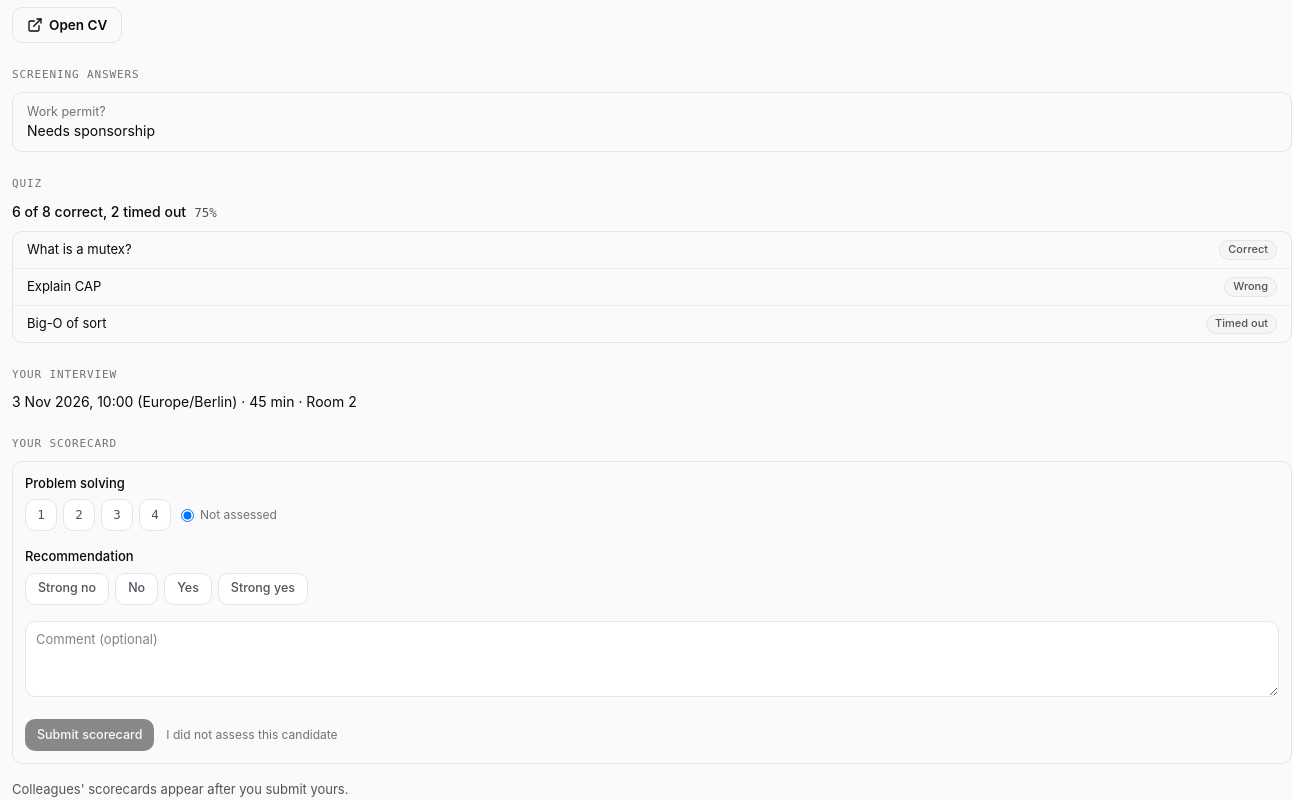
Scenario: ReviewDetailPage › declines and shows the declined state, keeping the view
(page scrolled)
Click the button "I did not assess this candidate" at (252, 735), box [166,726,338,744]
(page scrolled)
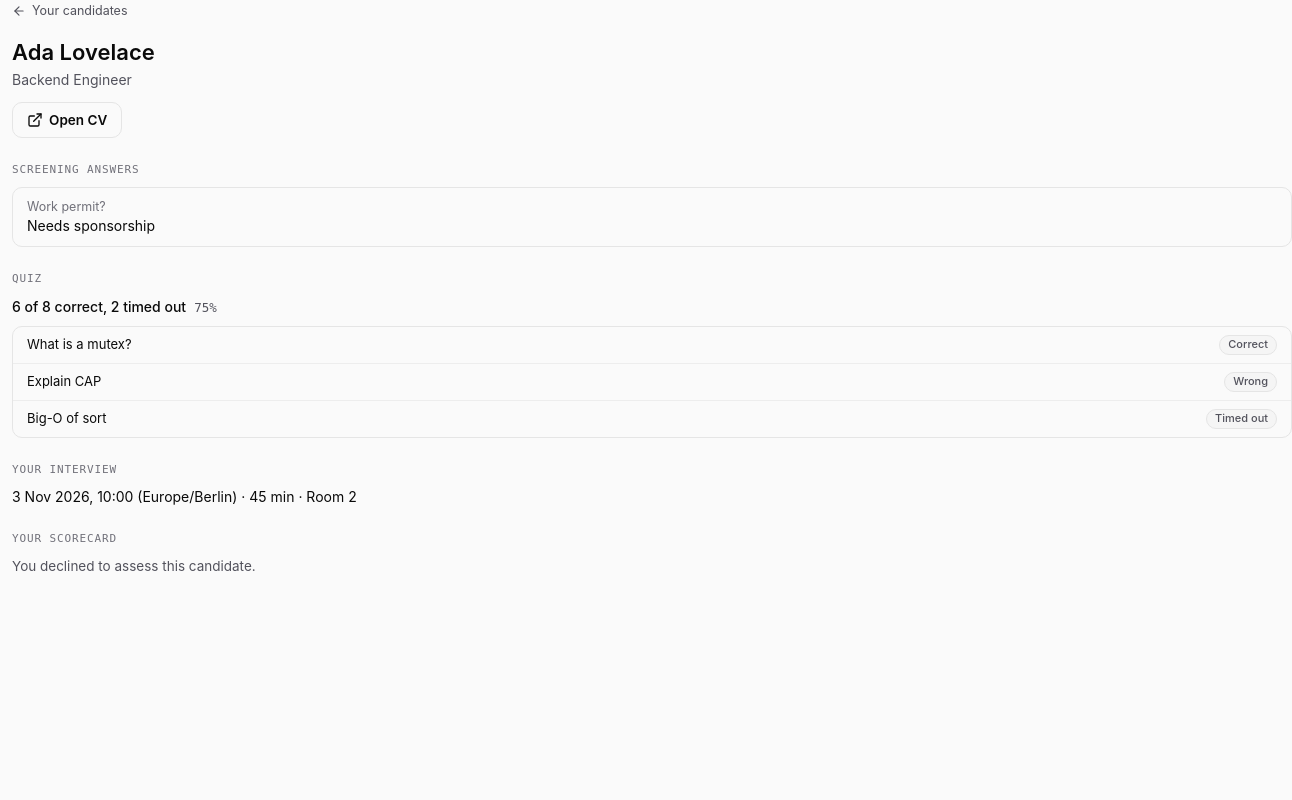
Expected: the text "Work permit?" is shown, [27,198,106,214]
Now the text "You declined to assess this candidate." is shown, box [12,558,256,574]
Now the button "Submit scorecard" is gone
